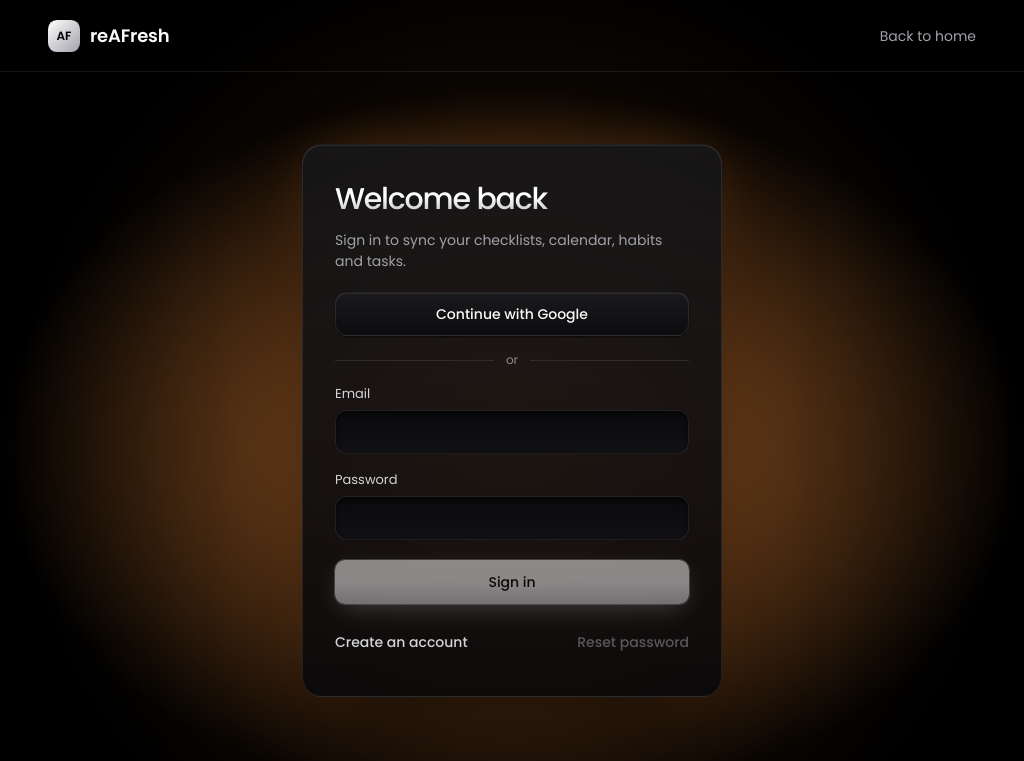
Scenario: SignIn › switches to register mode when "Create an account" is clicked
The width and height of the screenshot is (1024, 761).
Click the button "Create an account" at (401, 642), box [335, 620, 468, 664]
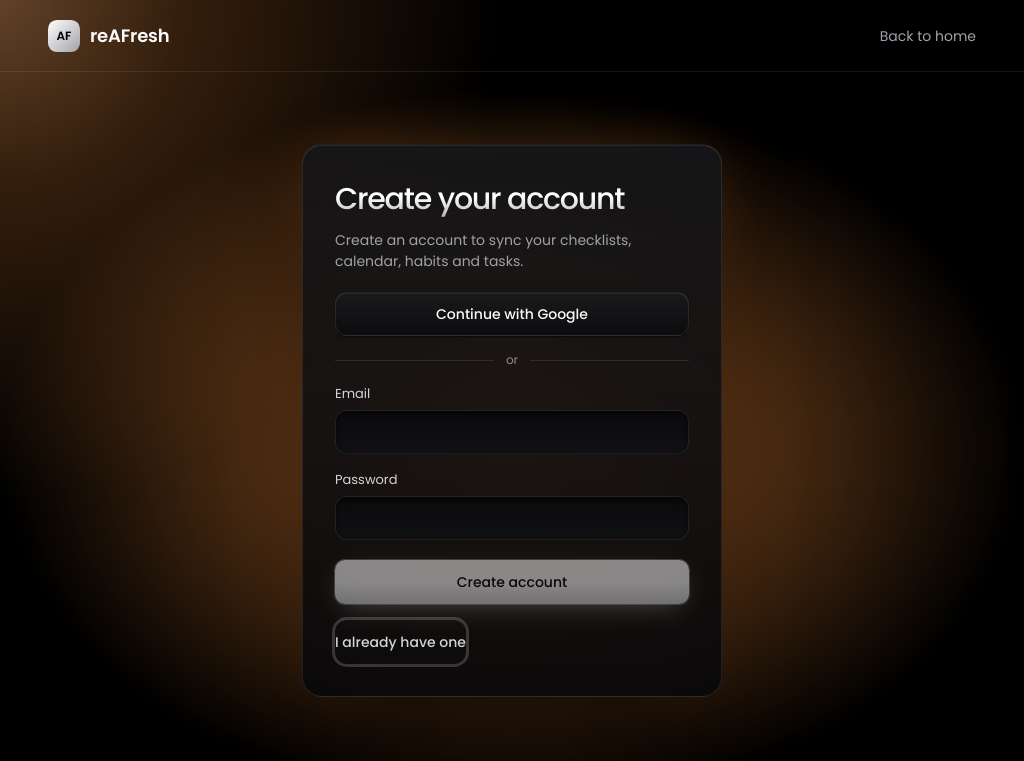
Check: the heading "Create your account" is shown, box [335, 177, 689, 222]
